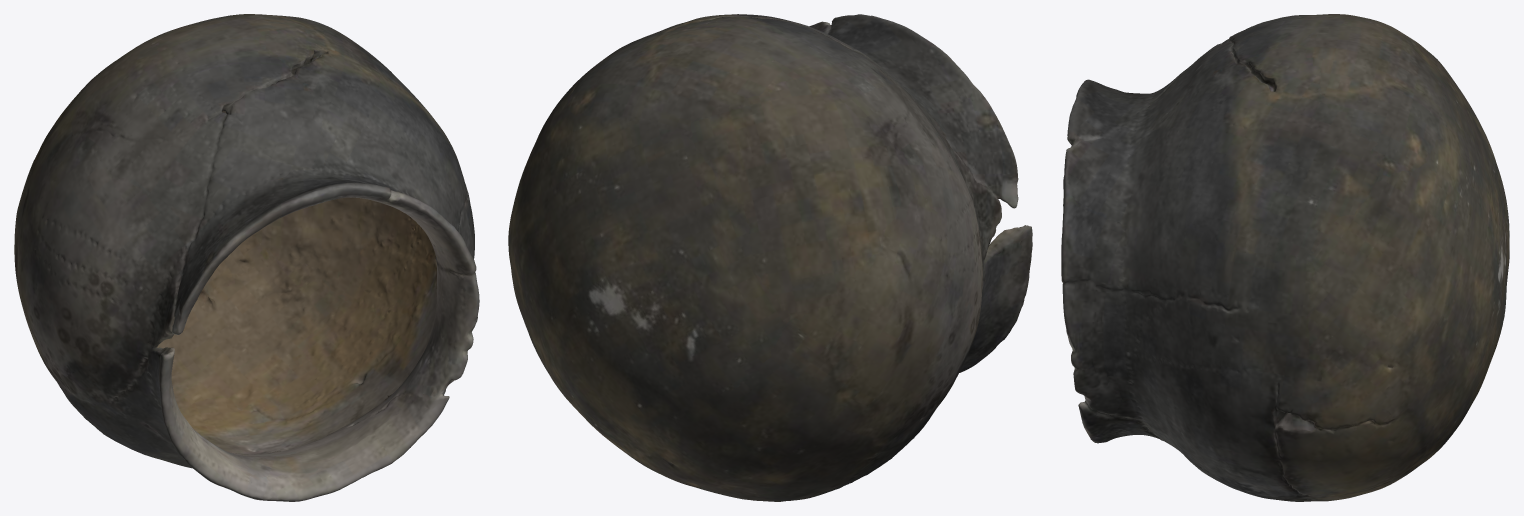
File: colonoware-pot.glb
3 renders of one model, left to right at view 1: azimuth 30°, elevation 25°; view 2: azimuth 150°, elevation 25°; view 3: azimuth 270°, elevation 25°, orthographic. The views are drawn at different scales.
Bounding box in the file's own units: 0.2653 × 0.2627 × 0.2428.
Materials: 1 (1 with a texture image).
